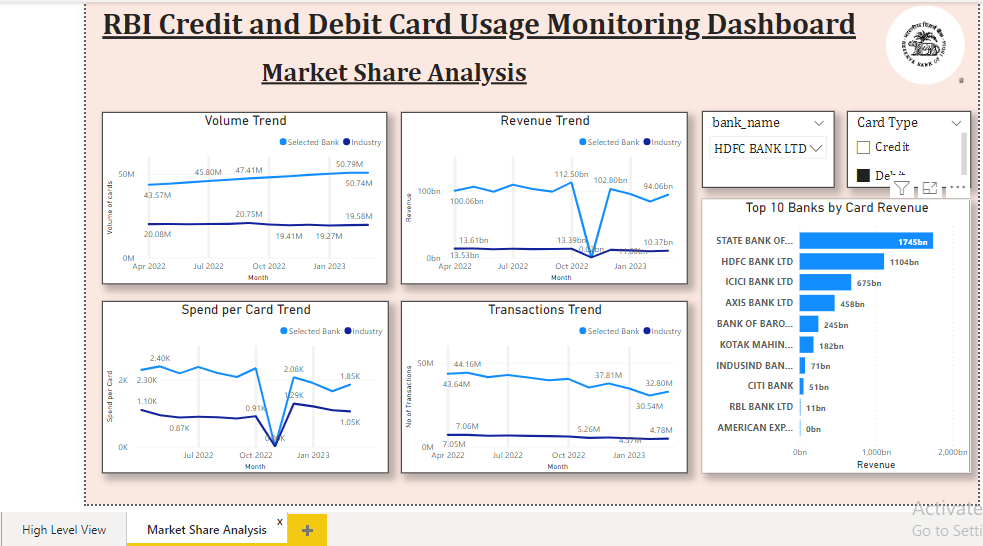

The page's visual inventory and layout, read from the dashboard file:
{"tool":"powerbi","page":{"name":"Market Share Analysis","canvas":[1280,720],"ordinal":1},"visuals":[{"type":"textbox","box":[0,0,1127.8,68.5],"z":0},{"type":"slicer","fields":{"Values":["Master_data.bank_name"]},"box":[884.1,156.1,189.6,109.9],"z":1000},{"type":"lineChart","title":"Volume Trend","fields":{"Category":["Master_data.Month.Variation.Date Hierarchy.Year","Master_data.Month.Variation.Date Hierarchy.Month"],"Y":["Master_data.Card_Number_Selected_Card_Type","Master_data.AvgCards_RestOfIndustry"]},"box":[22.3,157.7,409.4,246.9],"z":2000},{"type":"lineChart","title":"Transactions Trend","fields":{"Category":["Master_data.Month.Variation.Date Hierarchy.Year","Master_data.Month.Variation.Date Hierarchy.Month"],"Y":["Master_data.Transactions_Selected_Card_Type","Master_data.AvgTransactions_cc_RestOfIndustry"]},"box":[452.4,428.5,411,246.9],"z":3000},{"type":"image","box":[1127.8,0,152.9,122.7],"z":4000},{"type":"lineChart","title":"Revenue Trend","fields":{"Category":["Master_data.Month.Variation.Date Hierarchy.Year","Master_data.Month.Variation.Date Hierarchy.Month"],"Y":["Master_data.Inr_Value_Selected_Card_Type","Master_data.AvgInrval_cc_RestOfIndustry"]},"box":[452.4,157.7,411,246.9],"z":5000},{"type":"textbox","box":[246.9,73.3,411,70.1],"z":6000},{"type":"lineChart","title":"Spend per Card Trend","fields":{"Category":["Master_data.Month.Variation.Date Hierarchy.Year","Master_data.Month.Variation.Date Hierarchy.Month"],"Y":["Master_data.Spend_per_card_Selected_Card_Type","Master_data.AvgSpendper_cc_RestOfIndustry"]},"box":[22.3,428.5,411,246.9],"z":7000},{"type":"slicer","fields":{"Values":["card_type.Card Type"]},"box":[1091.2,156.1,178.4,109.9],"z":8000},{"type":"barChart","title":"Top 10 Banks by Card Revenue","fields":{"Category":["Master_data.bank_name"],"Y":["Master_data.Inr_Value_Selected_Card_Type"]},"box":[884.1,281.9,385.5,393.5],"z":9000}]}

Visuals, with their boxes on the page's 1280x720 design canvas (x1, y1, x2, y2). These are canvas units, not pixel positions in the 983x546 screenshot, which may show the page scaled, cropped or inside an application window:
textbox: (left=0, top=0, right=1128, bottom=68)
slicer - Master_data.bank_name: (left=884, top=156, right=1074, bottom=266)
"Volume Trend" lineChart: (left=22, top=158, right=432, bottom=405)
"Transactions Trend" lineChart: (left=452, top=428, right=863, bottom=675)
image: (left=1128, top=0, right=1281, bottom=123)
"Revenue Trend" lineChart: (left=452, top=158, right=863, bottom=405)
textbox: (left=247, top=73, right=658, bottom=143)
"Spend per Card Trend" lineChart: (left=22, top=428, right=433, bottom=675)
slicer - card_type.Card Type: (left=1091, top=156, right=1270, bottom=266)
"Top 10 Banks by Card Revenue" barChart: (left=884, top=282, right=1270, bottom=675)
